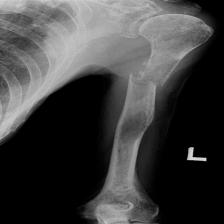pathological-fracture: (3, 0, 223, 224)
